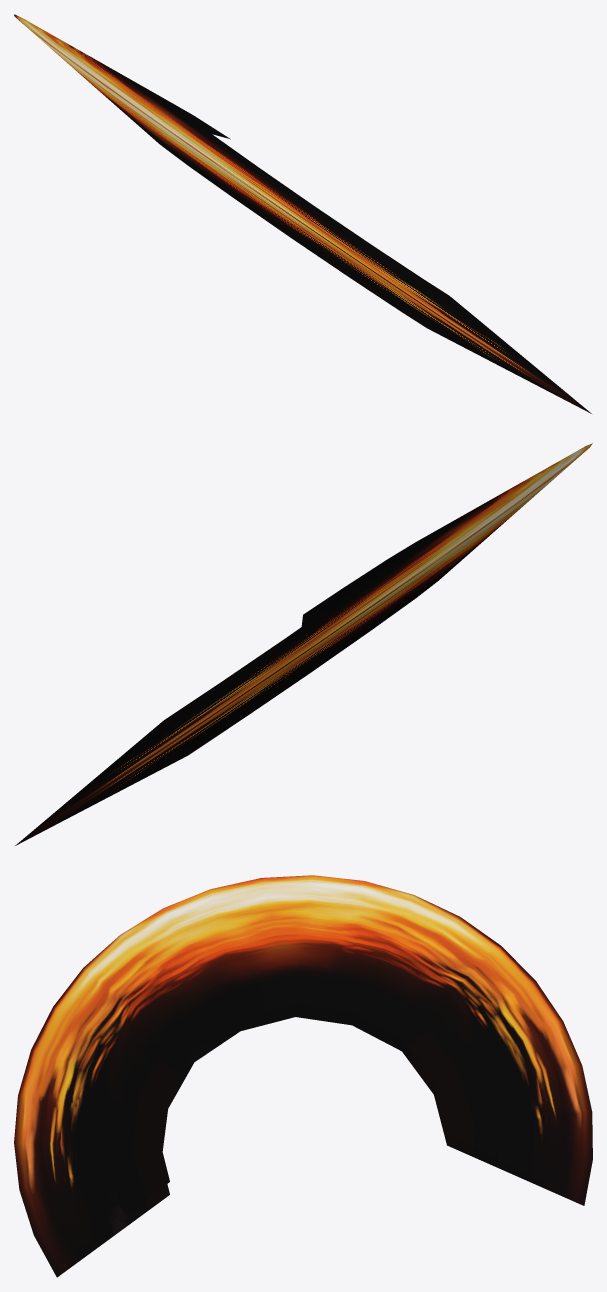
Rendered from D_Zhanshi_a2_0-11.fbx.
The picture shows the model from 3 angles, top to bottom: view 1: azimuth 30°, elevation 25°; view 2: azimuth 150°, elevation 25°; view 3: azimuth 270°, elevation 25°; orthographic projection. The views are drawn at different scales.
Visible parts, largest first — view 1: polySurface43; view 2: polySurface43; view 3: polySurface43.
Boxes of the visible parts, bbox=[...] form: polySurface43: bbox=[14, 14, 591, 413]; polySurface43: bbox=[15, 443, 592, 845]; polySurface43: bbox=[14, 875, 592, 1277].
Bounding box in the file's own units: 3.06e-12 × 2.63e-12 × 5.29e-12.
